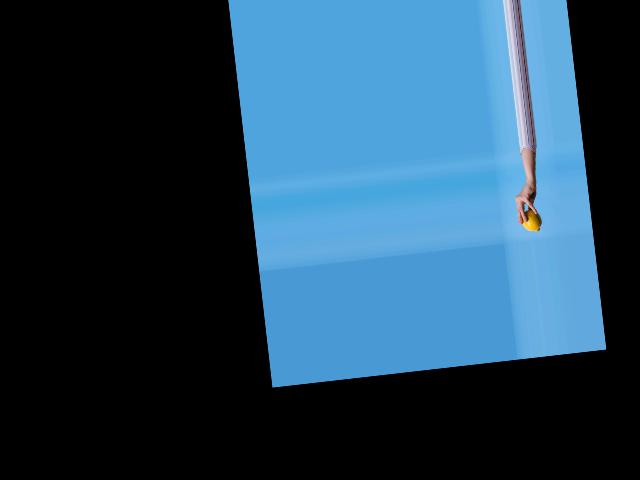lemon: (505, 200, 544, 236)
